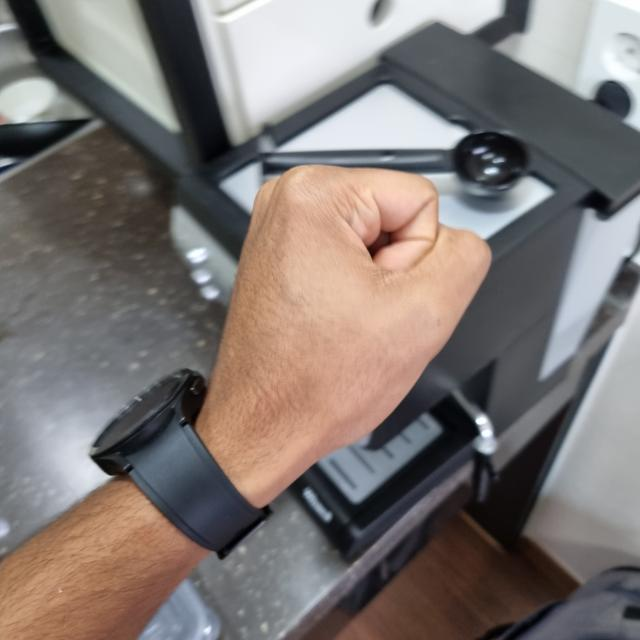Rock: (202, 166, 491, 483)
